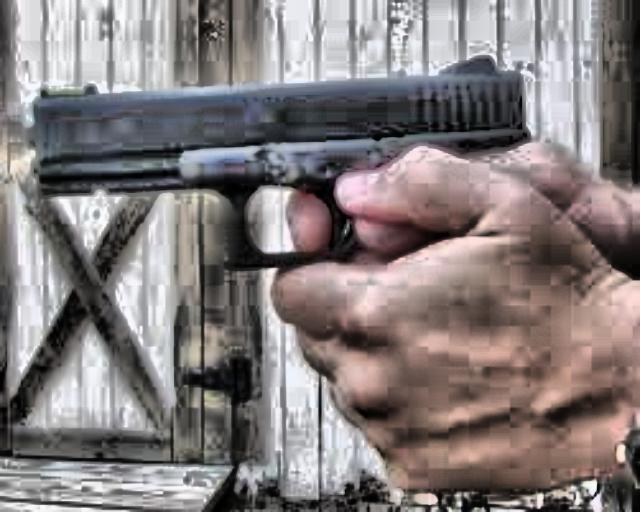pistol: (8, 49, 520, 283)
